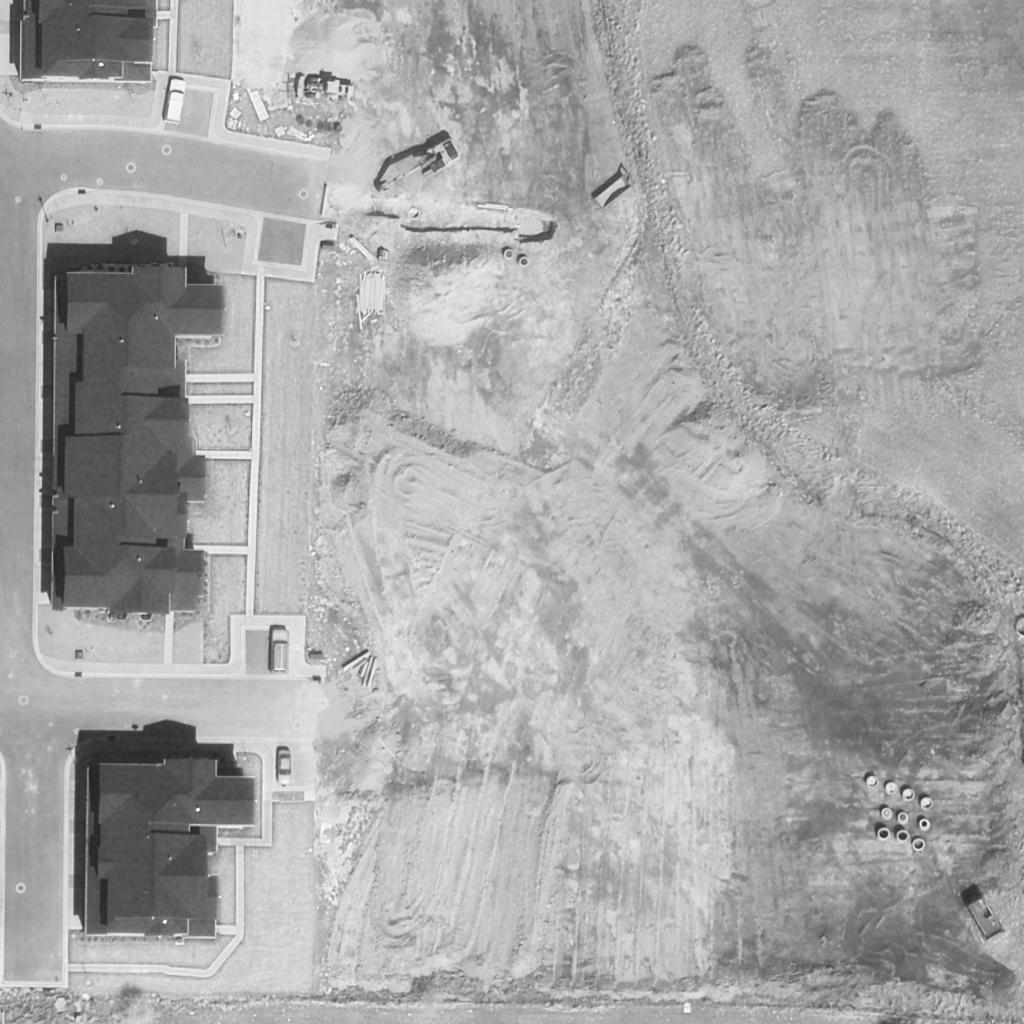vehicle: (368, 138, 466, 204), (291, 74, 359, 106), (163, 74, 189, 126), (271, 627, 291, 677), (274, 750, 294, 786)
